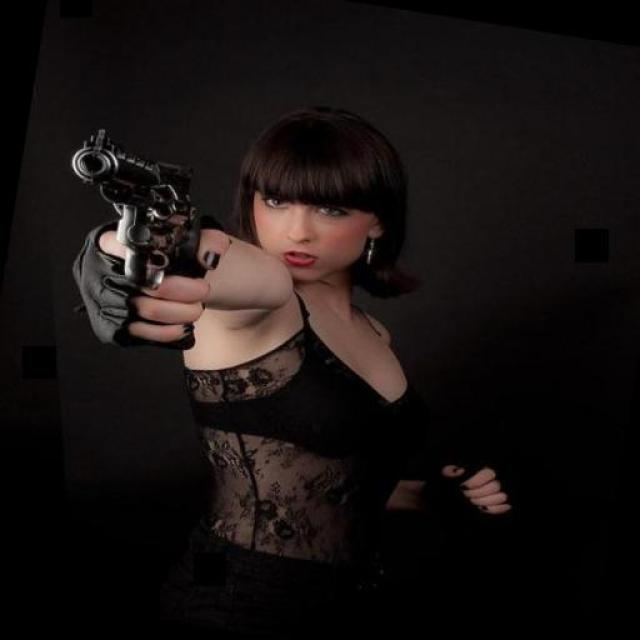gun: (41, 116, 218, 299)
